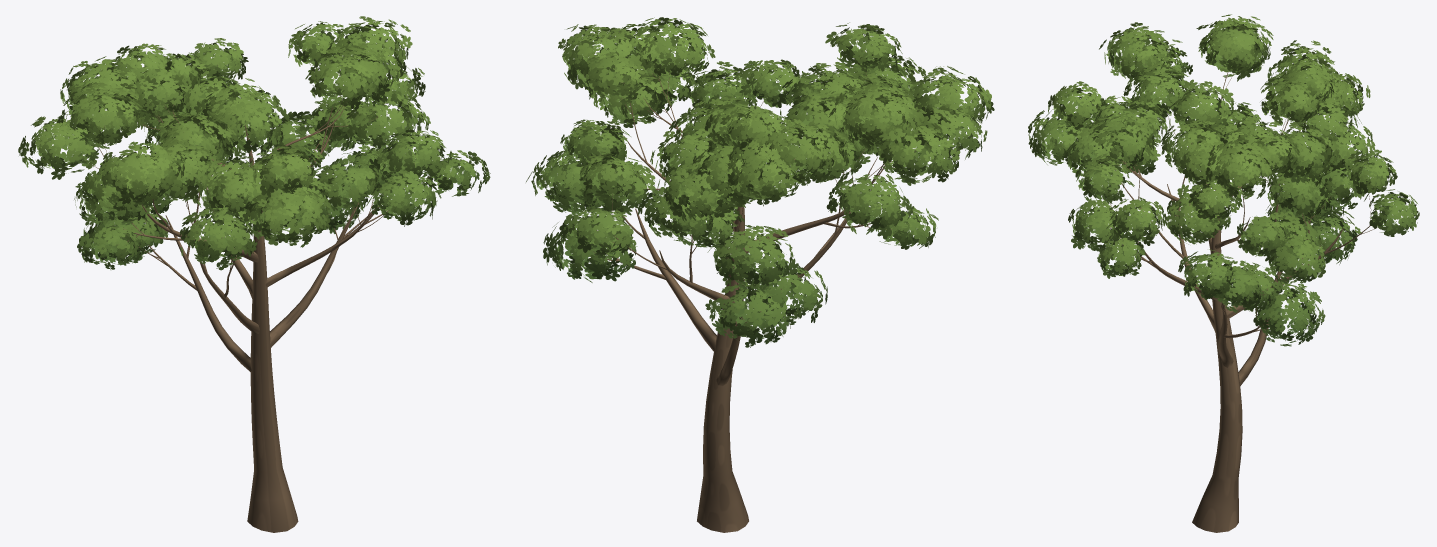
The model's file is tree.gltf.
3 views of the same model, side by side, from view 1: azimuth 30°, elevation 25°; view 2: azimuth 150°, elevation 25°; view 3: azimuth 270°, elevation 25° (orthographic). The views are drawn at different scales.
Visible parts, largest first — view 1: Tree_LOD0; view 2: Tree_LOD0; view 3: Tree_LOD0.
Part boxes in pixels (<box>): Tree_LOD0: <box>18,16,490,532</box>; Tree_LOD0: <box>526,17,994,532</box>; Tree_LOD0: <box>1028,14,1419,532</box>.
Bounding box in the file's own units: 19.22 × 21.33 × 17.76.
2 materials, 2 textured.
